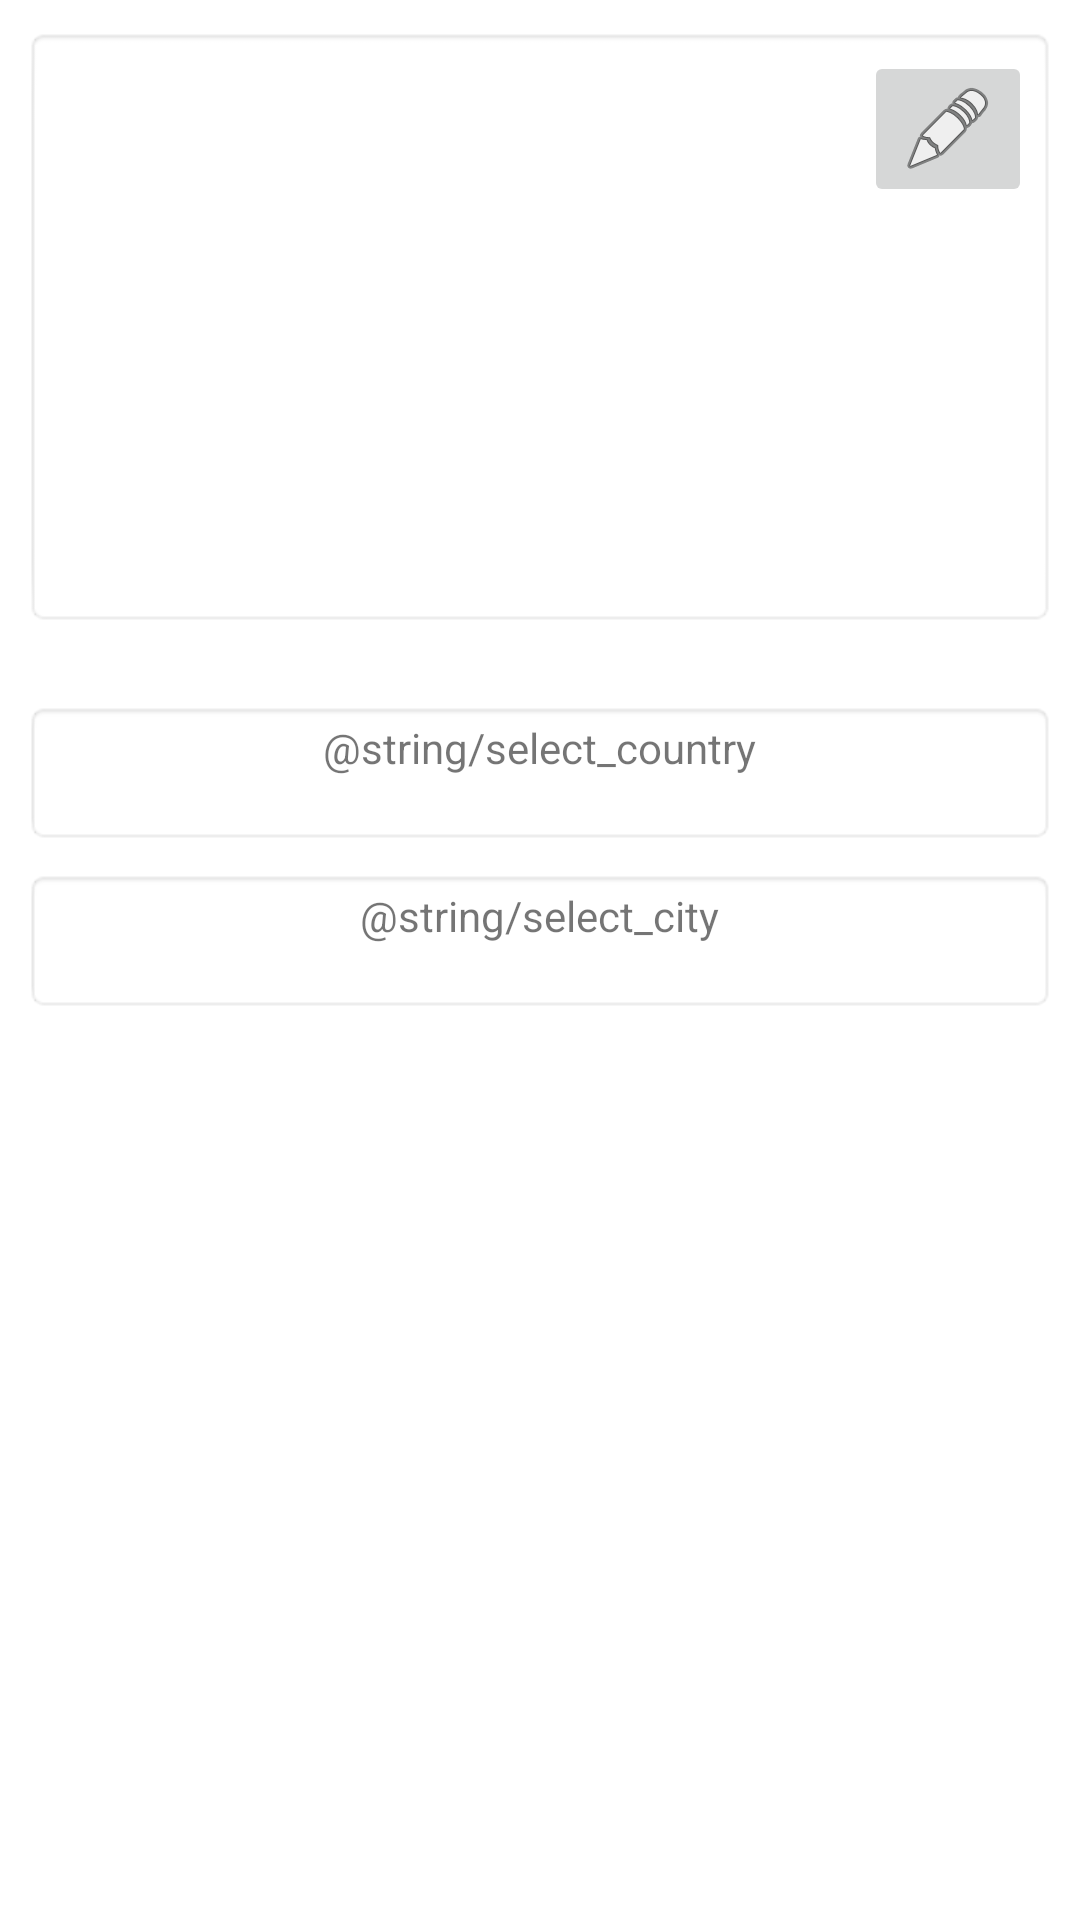

Icon bounding boxes for this 1080px x 1920px phone screenshot, format (x1, y1, x2, y2):
edit: (876, 69, 1020, 189)
